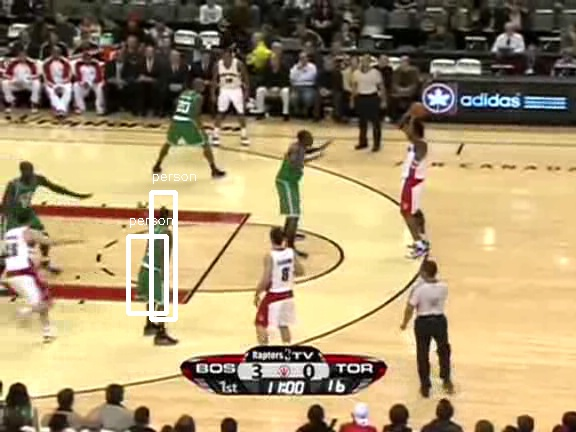person: (139, 226, 173, 307), (138, 226, 172, 307), (140, 226, 174, 307), (139, 225, 173, 306), (139, 227, 173, 308)
target_negative: (22, 151, 196, 419), (266, 116, 494, 251), (244, 384, 468, 404), (341, 428, 522, 432), (201, 378, 213, 390), (559, 326, 560, 405)
